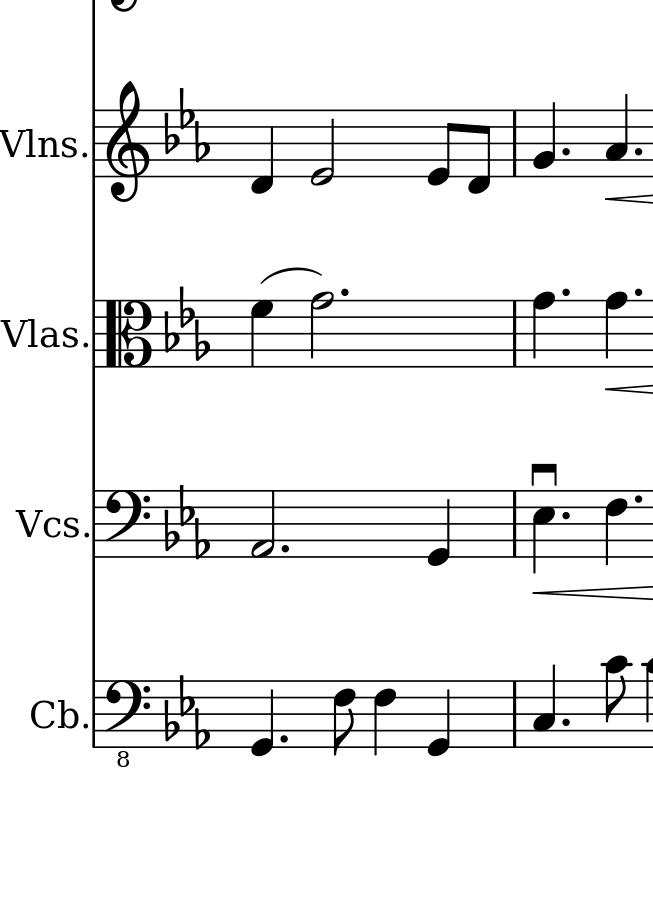2_0: (308, 109, 336, 187)
2_1: (249, 489, 276, 559)
2_8: (308, 290, 333, 371)
4_-1: (250, 107, 276, 195)
4_0: (249, 678, 276, 759), (425, 679, 451, 759), (426, 490, 452, 567)
4_2: (533, 100, 557, 178)
4_3: (602, 92, 630, 178), (530, 489, 556, 578), (532, 662, 558, 750)
4_6: (602, 487, 629, 570), (372, 678, 398, 761)
4_7: (249, 300, 274, 369)
4_8: (529, 291, 557, 369), (602, 289, 628, 371)
8_-1: (465, 108, 491, 196)
8_0: (425, 107, 458, 189)
8_10: (600, 654, 633, 751)
8_6: (330, 677, 357, 757)
Cb: (27, 695, 78, 731)
Cclef: (103, 298, 154, 369)
Down_bow: (529, 461, 558, 489)
E_F: (163, 283, 214, 362), (164, 483, 213, 561), (163, 672, 209, 749), (164, 87, 209, 163)
Fclef: (102, 487, 151, 561)
Gclef: (105, 80, 150, 203)
Lower_Fclef: (103, 676, 152, 769)
Single_barline: (507, 300, 524, 366), (86, 299, 102, 369), (507, 491, 524, 556), (87, 109, 102, 180), (87, 490, 102, 560), (507, 681, 523, 746), (507, 109, 522, 178), (87, 681, 102, 747)
Slur: (261, 266, 325, 283)
Vc: (14, 507, 66, 541)
Vla: (3, 311, 59, 356)
Vln: (1, 123, 59, 164)
dot: (557, 509, 576, 523), (630, 491, 645, 507), (278, 540, 292, 557), (559, 715, 574, 729), (557, 286, 572, 299), (338, 285, 351, 299), (277, 732, 291, 745), (560, 144, 573, 157), (633, 144, 645, 157), (632, 287, 644, 299)
